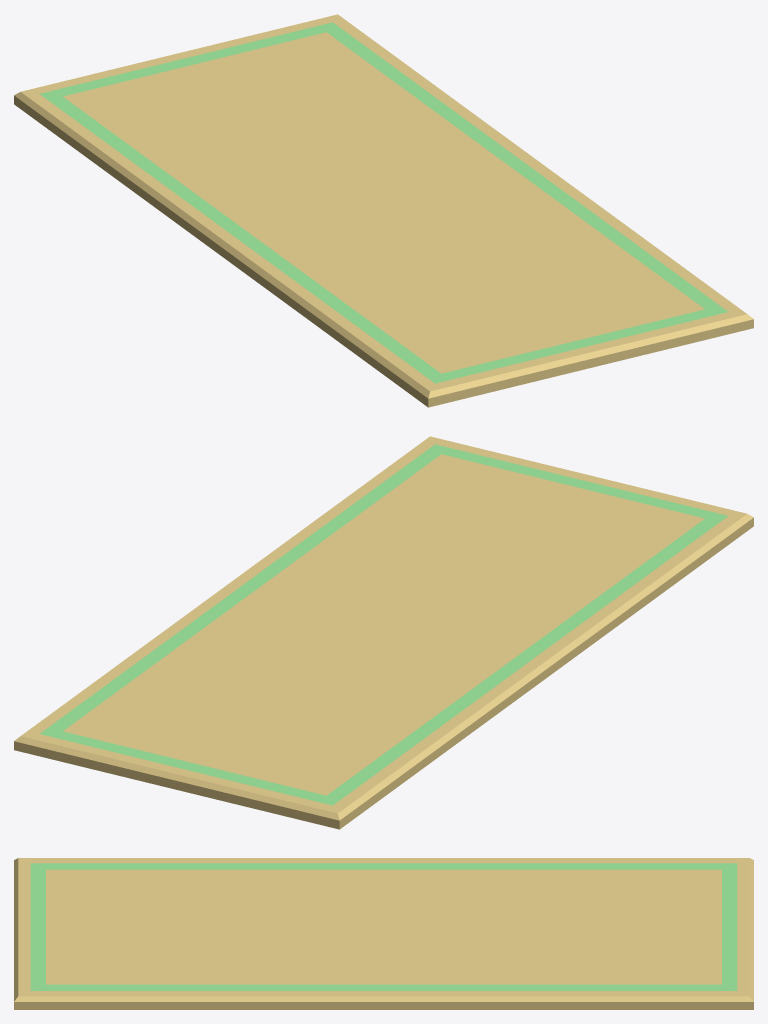
File: carpet.fbx
3 views of the same model, one above another, from view 1: azimuth 30°, elevation 25°; view 2: azimuth 150°, elevation 25°; view 3: azimuth 270°, elevation 25° (orthographic). The views are drawn at different scales.
Parts seen in each view (by area): view 1: Cube; view 2: Cube; view 3: Cube.
Part boxes in pixels (x1,y1,x2,y2): Cube: (14, 14, 753, 407); Cube: (14, 436, 753, 829); Cube: (14, 858, 753, 1009).
Size of the model in its own units: 200 by 7.81 by 441.
